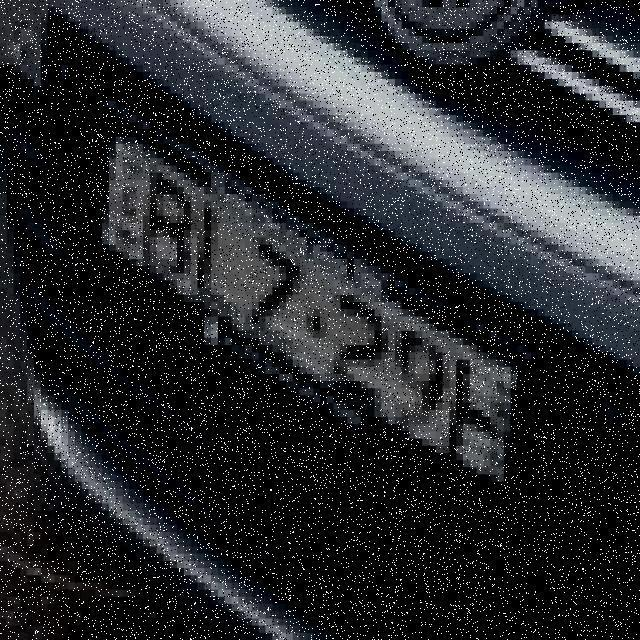LicensePlate: (83, 101, 552, 520)
